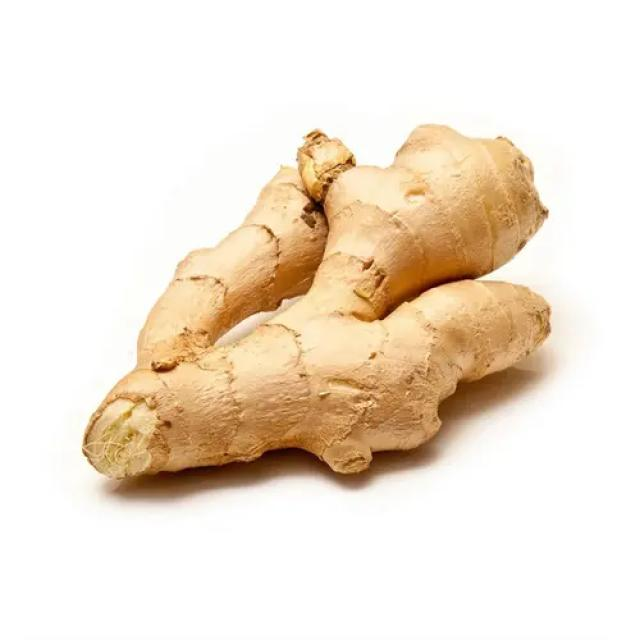ginger-root: (79, 119, 566, 569)
